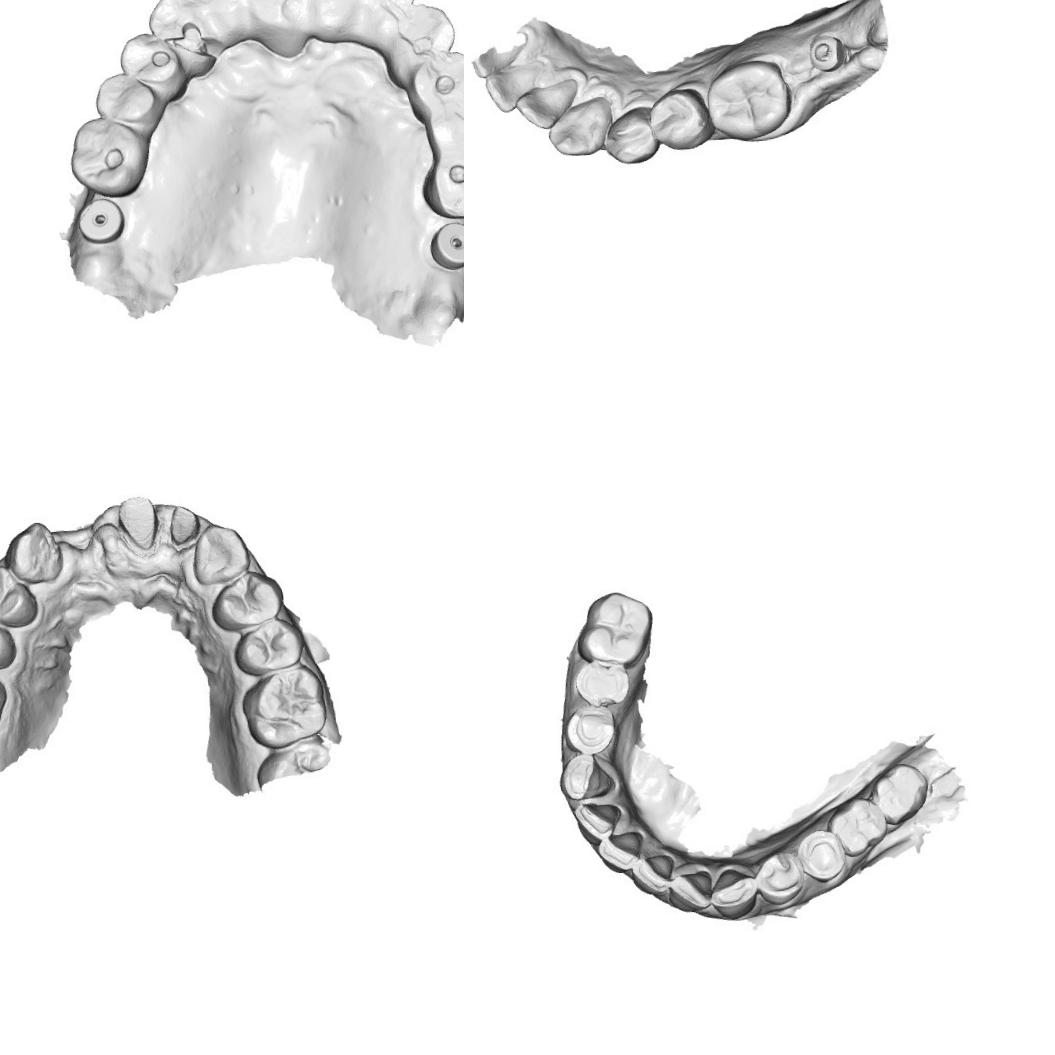canine: (392, 1, 458, 76), (149, 0, 212, 76), (3, 520, 66, 586), (544, 96, 610, 158), (186, 520, 247, 586), (706, 862, 759, 924), (560, 754, 612, 806)
crown: (113, 485, 162, 556), (164, 503, 206, 551)
implant: (75, 196, 128, 246), (802, 28, 851, 72), (425, 218, 464, 270)
incisor: (512, 77, 580, 131), (482, 63, 541, 114), (304, 0, 373, 43), (238, 0, 315, 38), (361, 0, 419, 50), (192, 0, 247, 47), (671, 864, 715, 909), (631, 850, 673, 896), (575, 800, 618, 840), (599, 830, 642, 868)
molar: (702, 56, 793, 142), (240, 664, 328, 751), (67, 115, 153, 198), (576, 585, 656, 670), (870, 761, 932, 827), (413, 145, 464, 223), (826, 796, 886, 856)
premolar: (228, 614, 310, 676), (205, 566, 281, 630), (120, 30, 184, 104), (93, 66, 161, 129), (647, 84, 709, 150), (408, 45, 464, 113), (597, 104, 658, 166), (572, 656, 630, 712), (753, 850, 806, 909), (564, 703, 618, 759), (796, 829, 846, 888), (0, 563, 41, 631), (421, 99, 464, 157)
